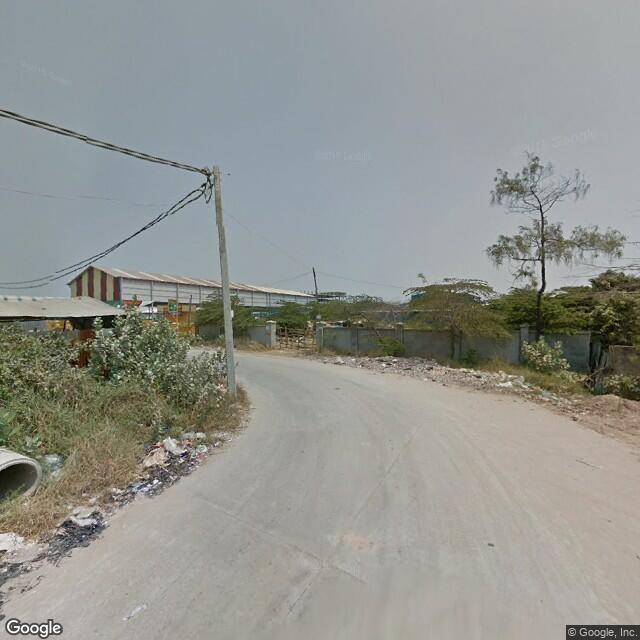litter: (54, 505, 115, 529), (138, 450, 168, 488), (496, 369, 529, 395), (38, 454, 69, 480), (160, 441, 194, 455), (327, 352, 347, 365)
